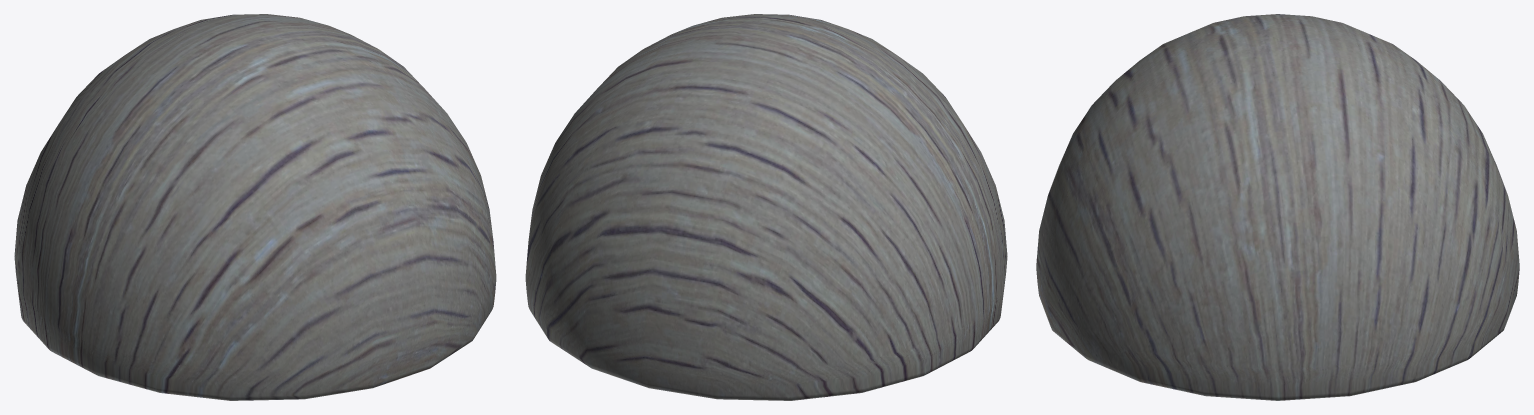
File: Willow.obj
3 renders of one model, left to right at view 1: azimuth 30°, elevation 25°; view 2: azimuth 150°, elevation 25°; view 3: azimuth 270°, elevation 25°, orthographic.
Parts seen in each view (by area): view 1: Tree5; view 2: Tree5; view 3: Tree5.
Part boxes in pixels (<box>): Tree5: <box>14,14,496,400</box>; Tree5: <box>525,14,1007,400</box>; Tree5: <box>1036,14,1519,400</box>.
Bounding box in the file's own units: 598 × 466 × 598.
2 materials, 2 textured.
